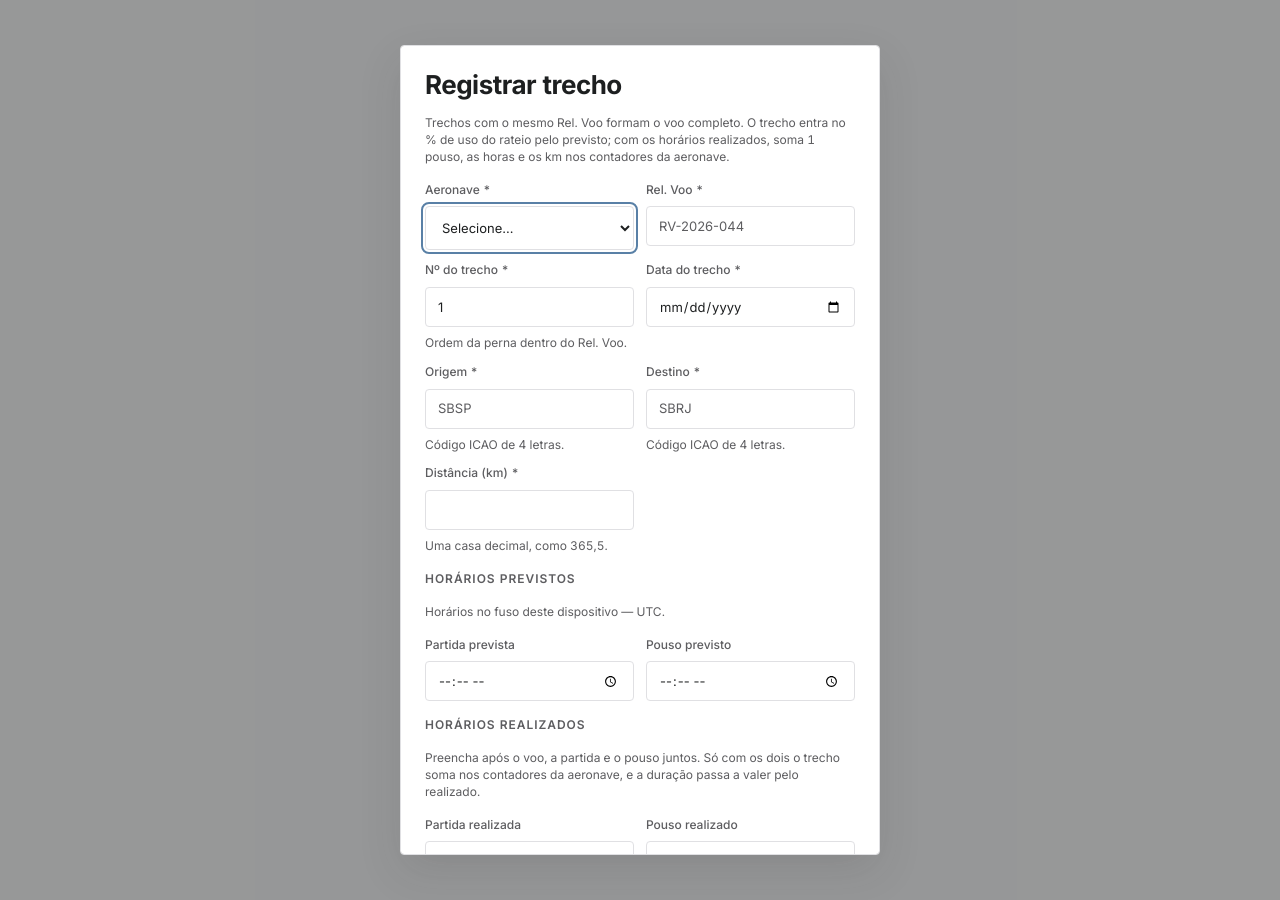
Test: PainelDeTrecho › aeronave sem contrato vigente avisa que o trecho não será rateado
Select "PT-XLB — AW109" in the dropdown labelled "Aeronave": (530, 228) [425, 206, 634, 250]
(page scrolled)
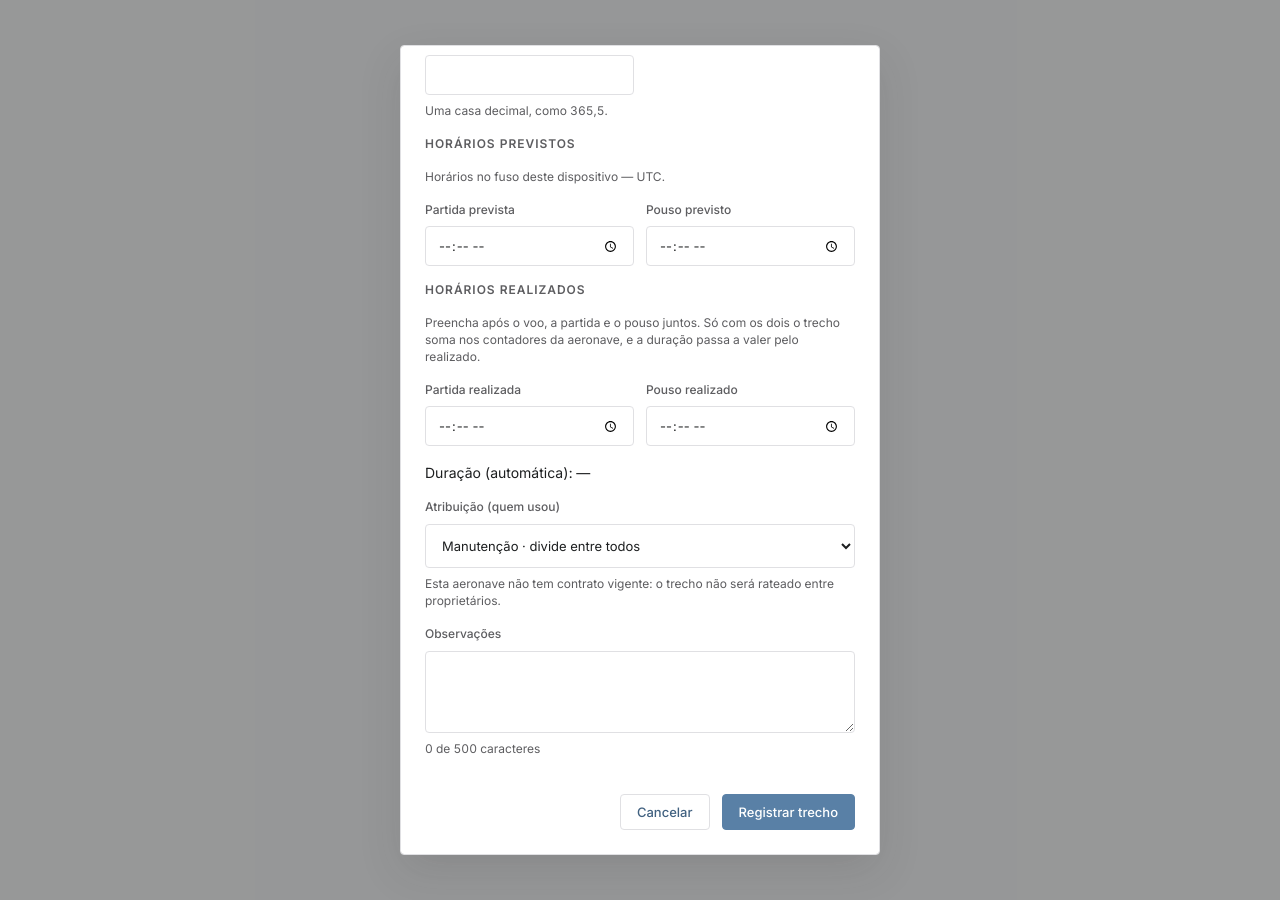
Expected: the text "não tem contrato vigente: o trecho não será rateado" is shown, [425, 576, 834, 608]
